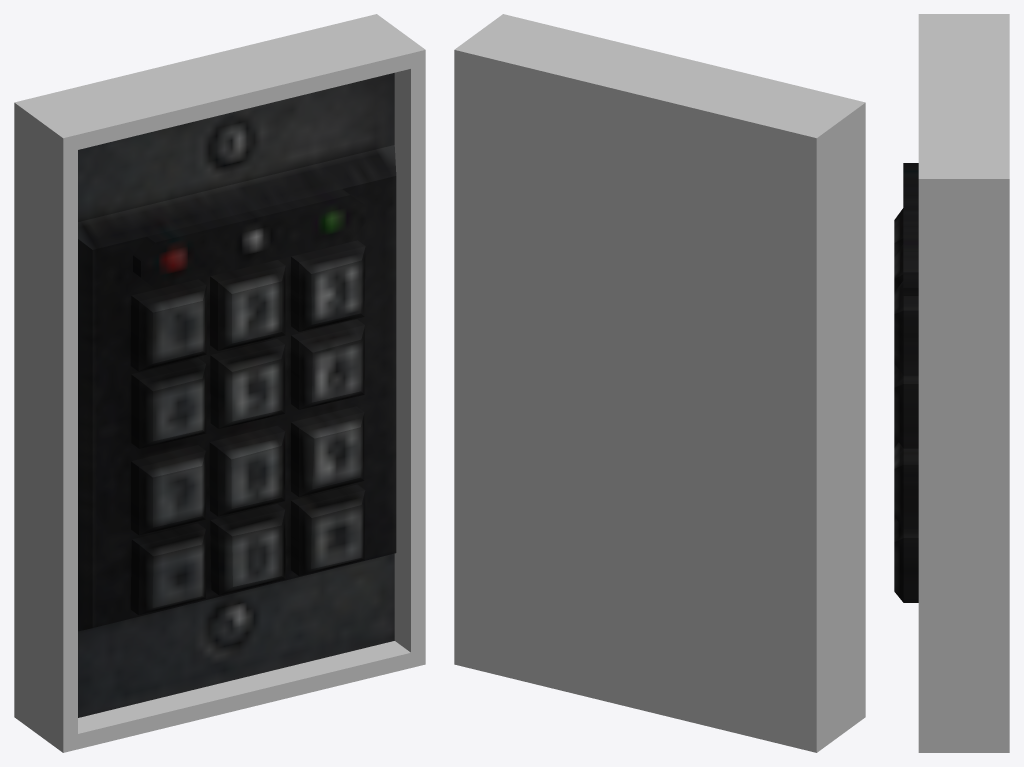
File: keypad_2.obj
The picture shows the model from 3 angles, left to right: view 1: azimuth 30°, elevation 25°; view 2: azimuth 150°, elevation 25°; view 3: azimuth 270°, elevation 25°; orthographic projection. The views are drawn at different scales.
Visible parts, largest first — view 1: keypad_2; view 2: keypad_2; view 3: keypad_2.
Part boxes in pixels (left/top/right/bottom): keypad_2: left=14, top=14, right=425, bottom=752; keypad_2: left=454, top=14, right=865, bottom=752; keypad_2: left=894, top=14, right=1009, bottom=752.
Size of the model in its own units: 0.1284 by 0.208 by 0.038.
